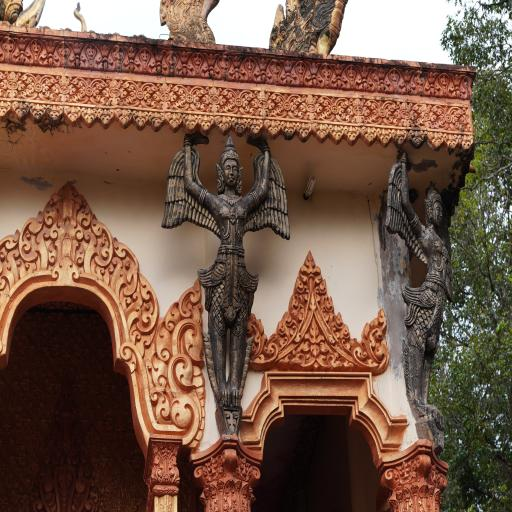la: (44, 185, 92, 278), (128, 270, 160, 344), (382, 98, 447, 130), (362, 310, 392, 374), (20, 207, 46, 278), (111, 238, 138, 306), (90, 214, 115, 284), (170, 313, 206, 361), (38, 74, 88, 102), (140, 84, 190, 111), (190, 86, 238, 114), (238, 90, 287, 117), (169, 394, 199, 438), (0, 230, 20, 294), (152, 446, 181, 490), (88, 80, 140, 104), (334, 99, 382, 123), (286, 96, 334, 120), (0, 71, 37, 98), (178, 281, 202, 322), (166, 352, 192, 389), (21, 38, 50, 70), (182, 47, 212, 77), (246, 310, 266, 352), (132, 46, 159, 77), (79, 40, 104, 72), (211, 50, 237, 79), (51, 39, 76, 69), (148, 349, 167, 388), (262, 57, 288, 85), (237, 53, 261, 83), (149, 387, 169, 423), (0, 35, 22, 65), (106, 42, 128, 72), (290, 58, 312, 88), (314, 61, 338, 88), (159, 48, 182, 76), (155, 321, 172, 358), (431, 71, 454, 98), (340, 64, 362, 91), (382, 67, 404, 94), (163, 300, 182, 331), (405, 70, 429, 94), (448, 106, 470, 132), (300, 252, 321, 278), (276, 310, 295, 338), (289, 294, 307, 322), (365, 66, 384, 91), (333, 310, 349, 339), (360, 127, 378, 150), (312, 123, 330, 145), (97, 108, 115, 128), (164, 112, 182, 132), (406, 129, 426, 147), (454, 75, 469, 98), (12, 100, 30, 119), (45, 105, 64, 123), (64, 106, 81, 126), (295, 121, 312, 141), (376, 127, 392, 148), (30, 100, 46, 120), (132, 110, 148, 130), (148, 112, 164, 132), (199, 115, 215, 135), (329, 125, 345, 145), (392, 129, 408, 149), (426, 132, 442, 152), (116, 109, 132, 128), (344, 127, 360, 146), (82, 106, 97, 126), (216, 115, 231, 135), (459, 133, 474, 153), (182, 114, 198, 132), (231, 116, 246, 134), (248, 118, 263, 136), (293, 275, 305, 297), (264, 120, 280, 136), (444, 135, 460, 150), (324, 296, 334, 320), (282, 121, 296, 137), (318, 280, 330, 298), (0, 100, 10, 120)
lua: (70, 3, 90, 33)
ran: (266, 0, 355, 56), (156, 0, 225, 44), (0, 0, 49, 30), (52, 461, 77, 510), (39, 474, 55, 512), (74, 475, 88, 511)
than: (159, 125, 298, 439), (380, 150, 469, 446), (113, 414, 129, 444), (113, 485, 130, 512), (86, 376, 101, 400), (61, 340, 74, 367), (0, 407, 13, 432), (28, 445, 40, 472), (32, 374, 42, 403)
